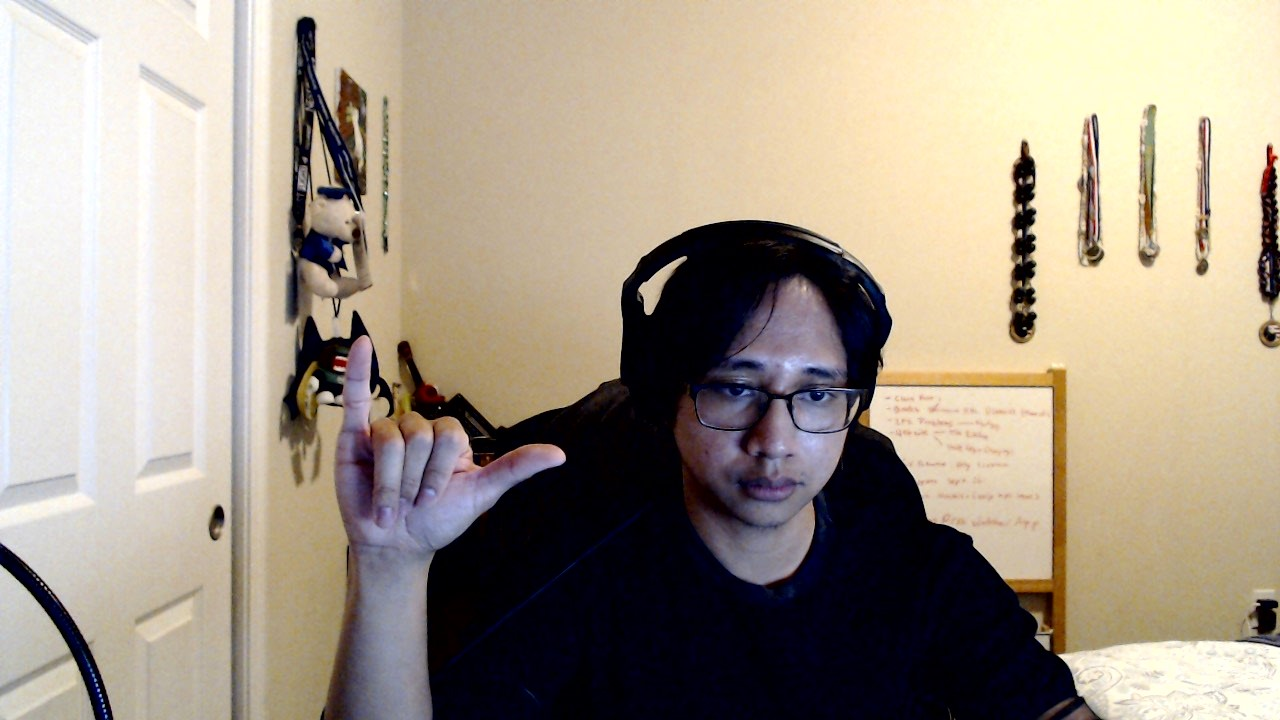y: (333, 333, 568, 555)
